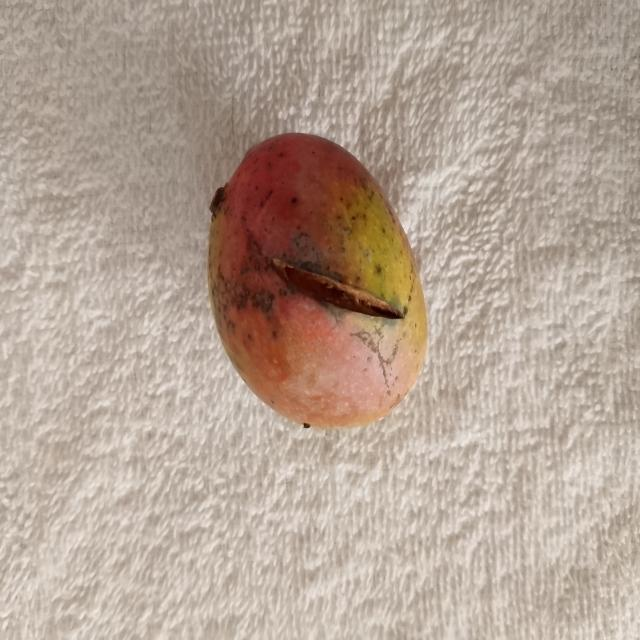mango: (208, 134, 426, 427)
